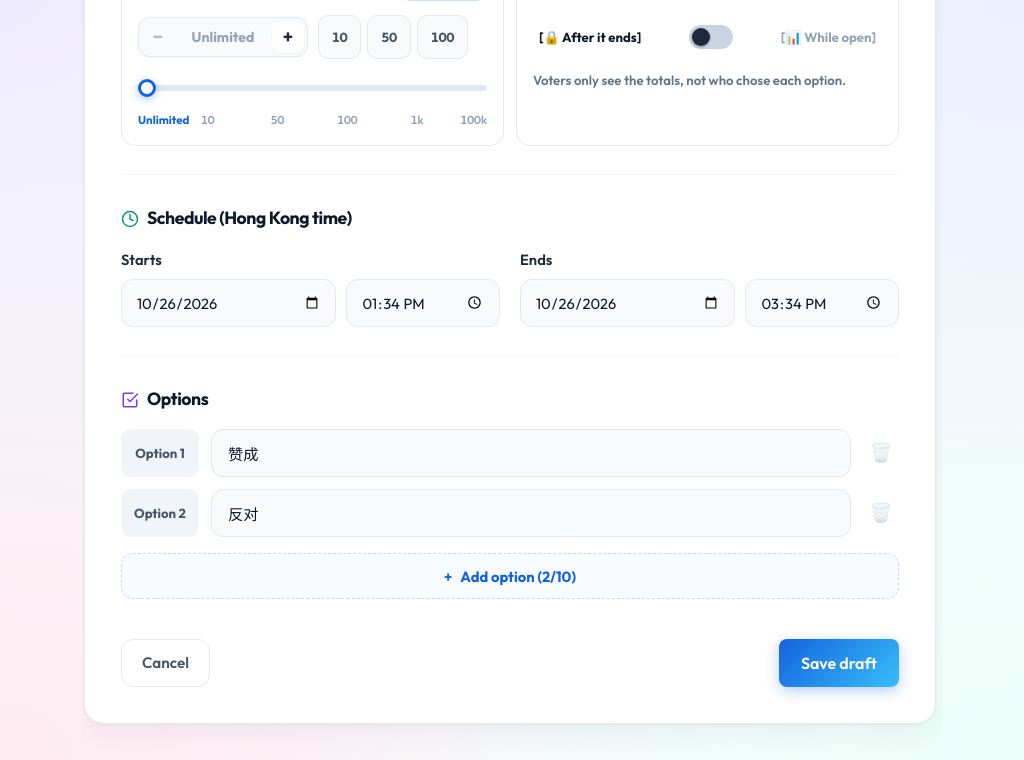
Scenario: PollForm › 第一次保存未完成时再次提交不会创建第二次
(page scrolled)
Click the button with test id "save-poll". click: (839, 663)
box: [779,639,899,687]
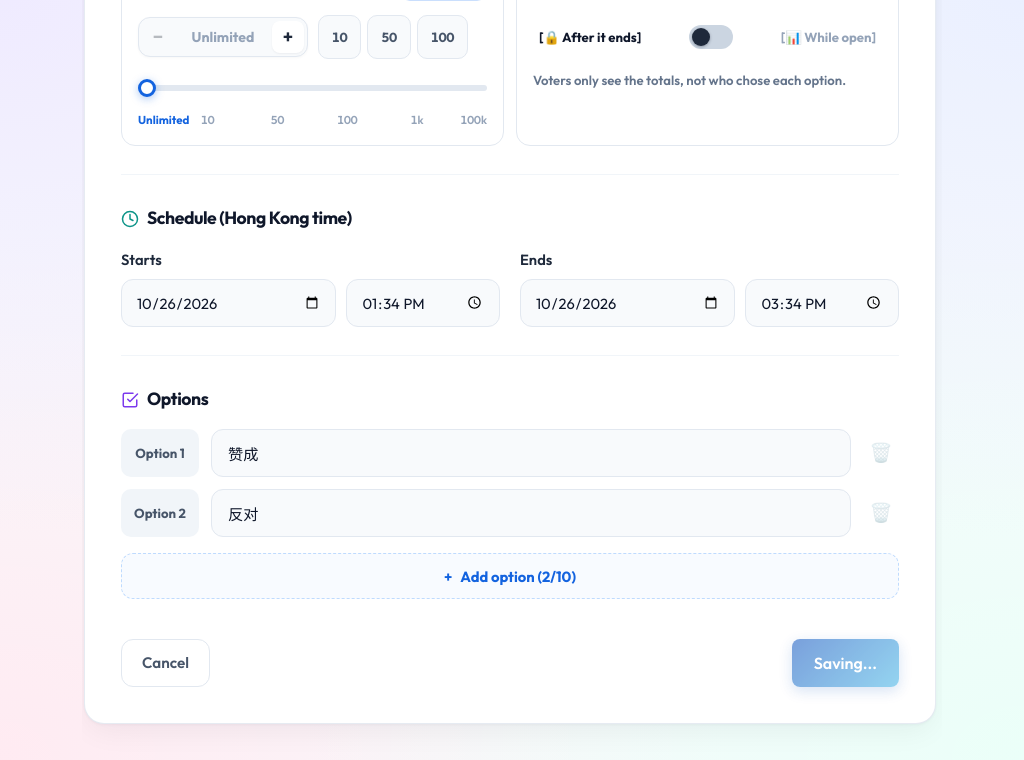
Expected: the button with test id "save-poll" is disabled
Click the button with test id "save-poll". click: (845, 663)
box: [792,639,899,687]
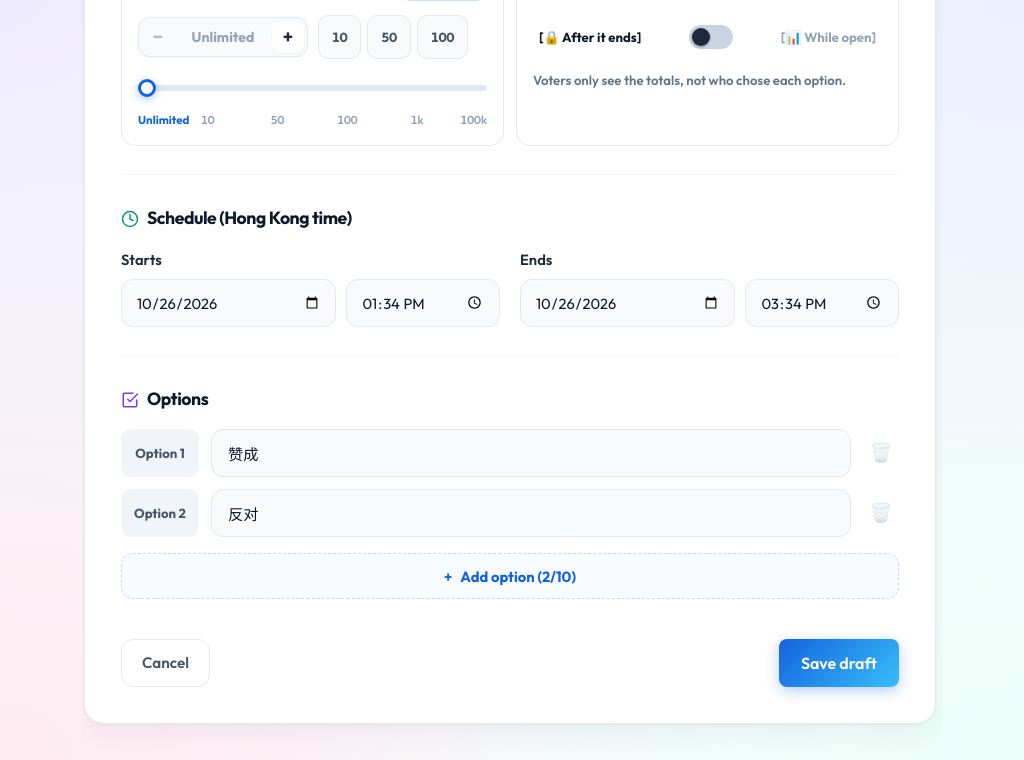
Expected: the button with test id "save-poll" is enabled, [779,639,899,687]
